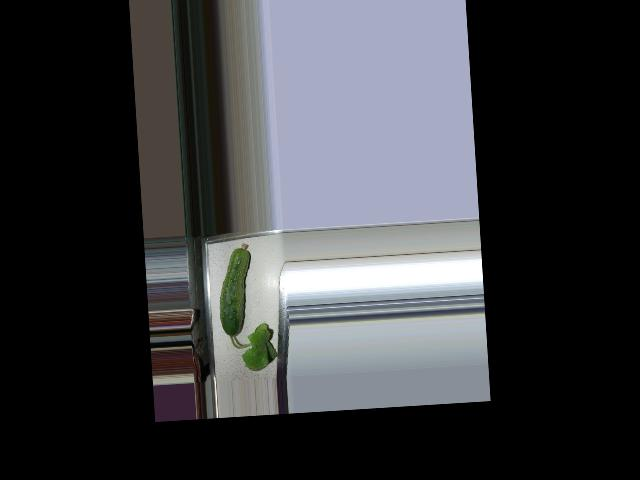cucumber: (215, 242, 255, 338)
